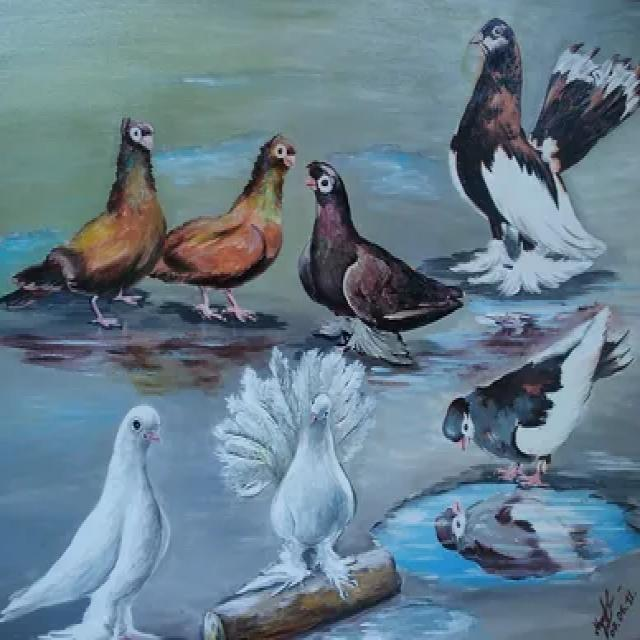pigeon: (201, 347, 376, 611), (0, 389, 181, 640)
